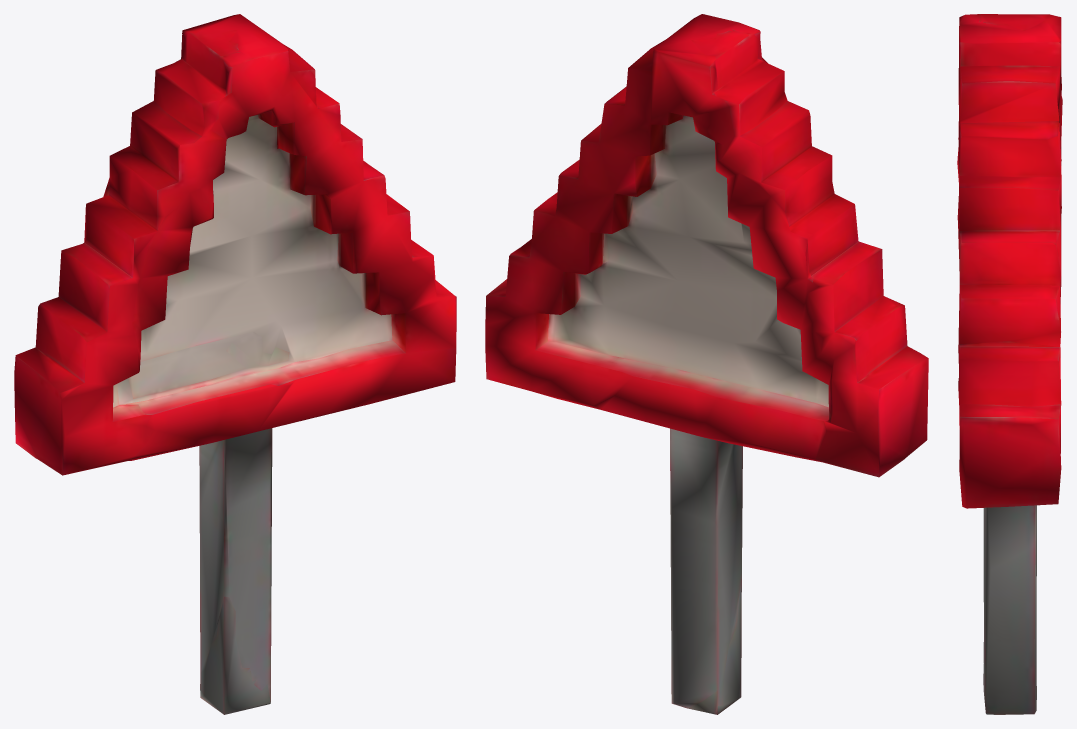
File: traffic-sign-yield.glb
The picture shows the model from 3 angles, left to right: view 1: azimuth 30°, elevation 25°; view 2: azimuth 150°, elevation 25°; view 3: azimuth 270°, elevation 25°; orthographic projection.
Visible parts, largest first — view 1: material; view 2: material; view 3: material.
Part boxes in pixels (x1,y1,x2,y2): material: [14, 14, 456, 714]; material: [485, 14, 928, 714]; material: [957, 14, 1062, 714].
Size of the model in its own units: 0.7417 by 1.18 by 0.167.
1 material, 1 textured.
